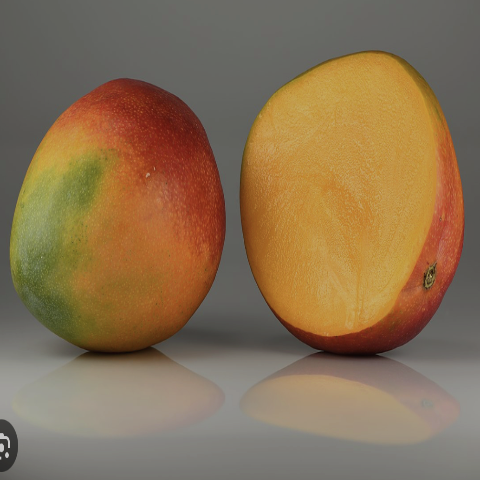mango: (236, 35, 469, 388), (4, 74, 231, 383)
